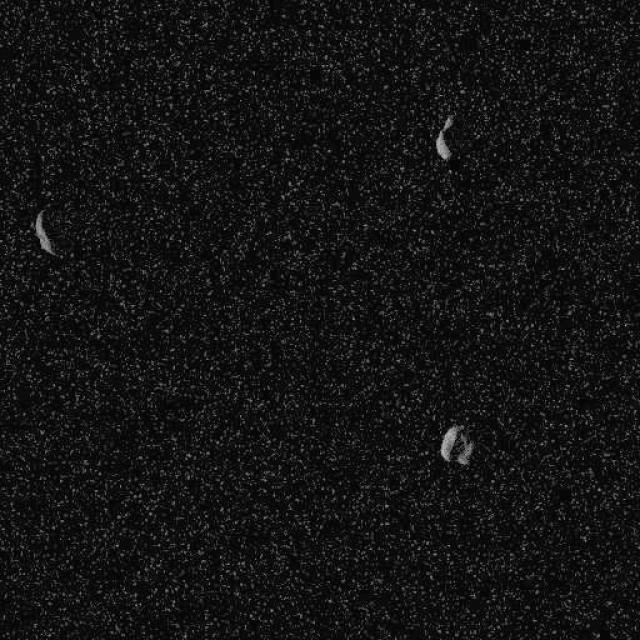D2: (438, 422, 474, 467), (32, 208, 58, 258), (434, 112, 455, 160)
